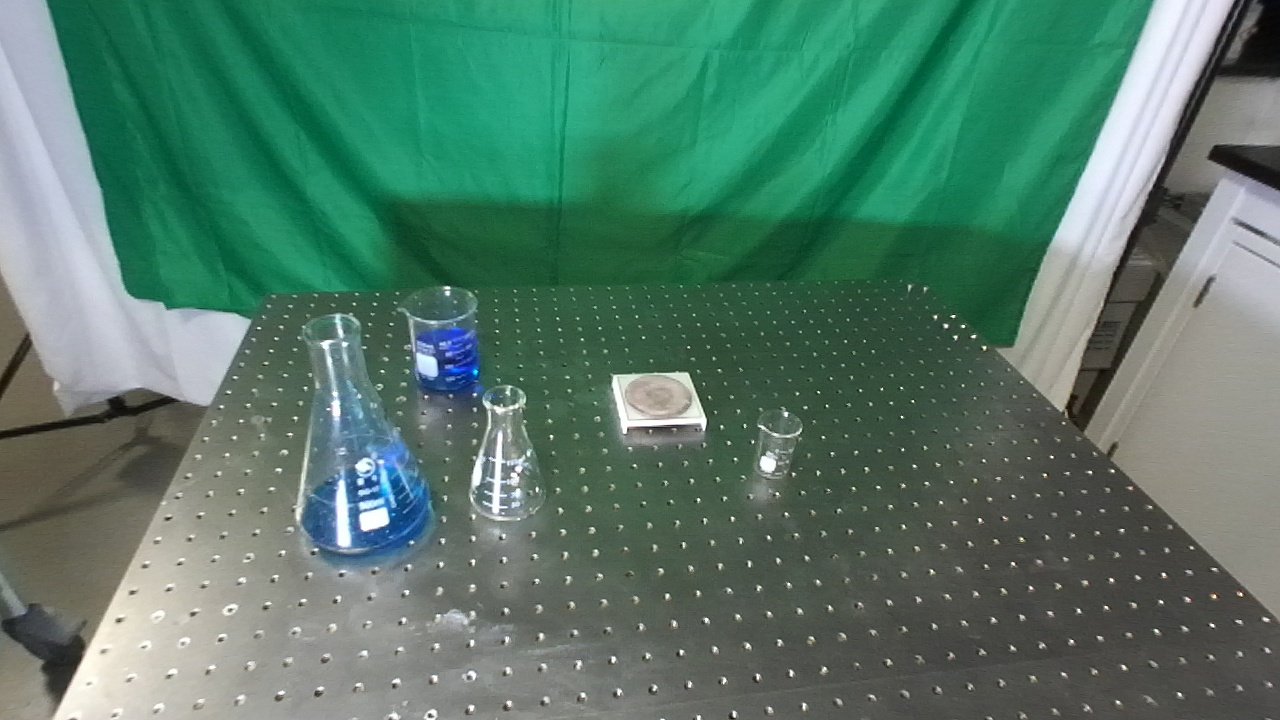glass: (277, 311, 439, 559), (461, 383, 549, 524), (399, 284, 484, 396), (751, 408, 803, 484)
plate: (605, 369, 711, 438)
